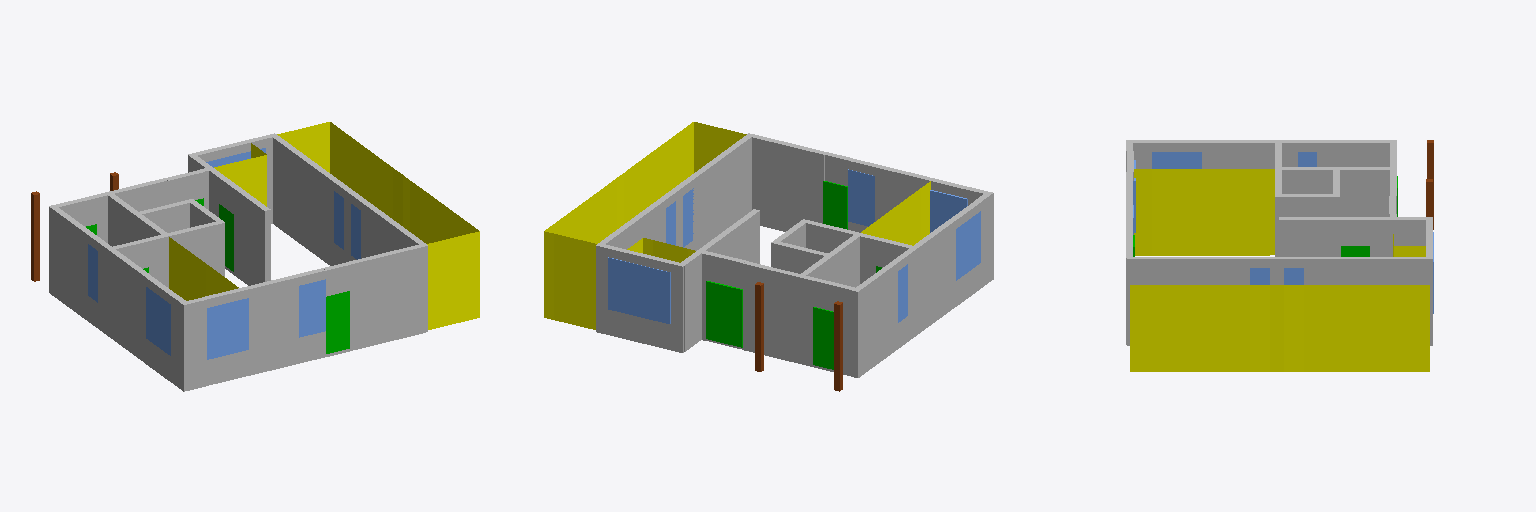
File: wall_coordinates_3d_fixed.obj
3 views of the same model, side by side, from view 1: azimuth 30°, elevation 25°; view 2: azimuth 150°, elevation 25°; view 3: azimuth 270°, elevation 25° (orthographic).
Visible parts, largest first — view 1: Outline_Wall, Wall_15, Wall_12, Wall_3, Wall_8, Wall_5, Wall_18, Wall_2, Internal_window_window_2, Wall_9, Wall_26, Internal_window_window_4 (+19 smaller); view 2: Outline_Wall, Wall_15, Wall_9, Wall_13, Wall_8, Wall_5, Internal_window_window_1, Internal_door_door_1, Wall_12, Wall_3, Wall_25, Fill_Below_window_1 (+25 smaller); view 3: Outline_Wall, Wall_9, Wall_12, Wall_28, Wall_18, Wall_5, Wall_8, Wall_27, Wall_25, Internal_window_window_3, Fill_Above_door_4, Wall_19 (+3 smaller).
Boxes of the visible parts, box(x1,y1,x2,y2) form: Outline_Wall: box(169, 122, 479, 329); Wall_15: box(347, 244, 425, 350); Wall_12: box(272, 134, 339, 265); Wall_3: box(247, 275, 298, 375); Wall_8: box(49, 205, 93, 320); Wall_5: box(108, 248, 150, 363); Wall_18: box(234, 187, 270, 285); Wall_2: box(180, 297, 206, 391); Internal_window_window_2: box(207, 298, 248, 359); Wall_9: box(361, 201, 427, 331); Wall_26: box(164, 222, 222, 287); Internal_window_window_4: box(299, 279, 325, 337); Outline_Wall: box(544, 122, 930, 329); Wall_15: box(752, 134, 827, 231); Wall_9: box(688, 133, 753, 250); Wall_13: box(743, 261, 800, 363); Wall_8: box(852, 261, 897, 377); Wall_5: box(913, 219, 955, 333); Internal_window_window_1: box(608, 257, 670, 323); Internal_door_door_1: box(706, 281, 742, 347); Wall_12: box(598, 198, 665, 249); Wall_3: box(875, 165, 926, 221); Wall_25: box(680, 252, 701, 351); Fill_Below_window_1: box(608, 310, 670, 349); Outline_Wall: box(1130, 169, 1429, 371); Wall_9: box(1127, 257, 1249, 345); Wall_12: box(1304, 257, 1429, 284); Wall_28: box(1337, 167, 1389, 216); Wall_18: box(1279, 217, 1340, 256); Wall_5: box(1202, 140, 1278, 168); Wall_8: box(1317, 140, 1396, 166); Wall_27: box(1282, 167, 1336, 193); Wall_25: box(1394, 217, 1429, 245); Internal_window_window_3: box(1152, 152, 1201, 168); Fill_Above_door_4: box(1341, 217, 1369, 245); Wall_19: box(1370, 217, 1393, 256).
Bounding box in the file's own units: 10.81 × 3 × 9.67.